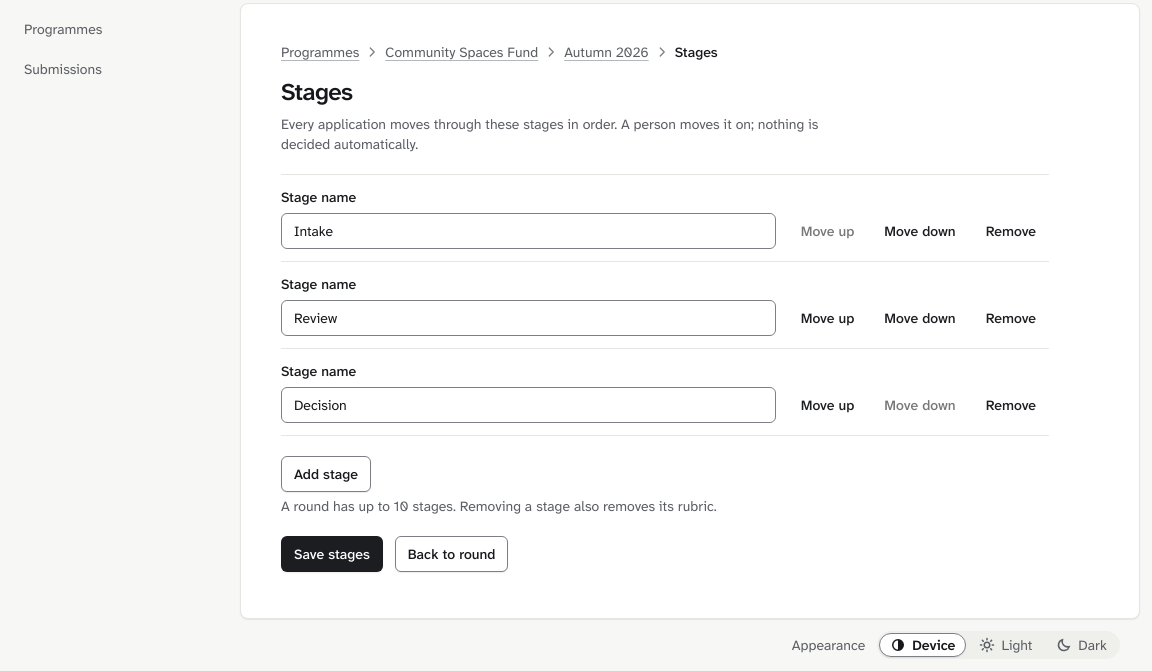
Test: the stages of a round › says which stage needs a name or a different name, beside it and in a summary
Expected: the 1st field showing "Intake" is shown, [281,213,776,249]
Clear the 3rd field showing "Decision" at [528, 405], box [281,387,776,423]
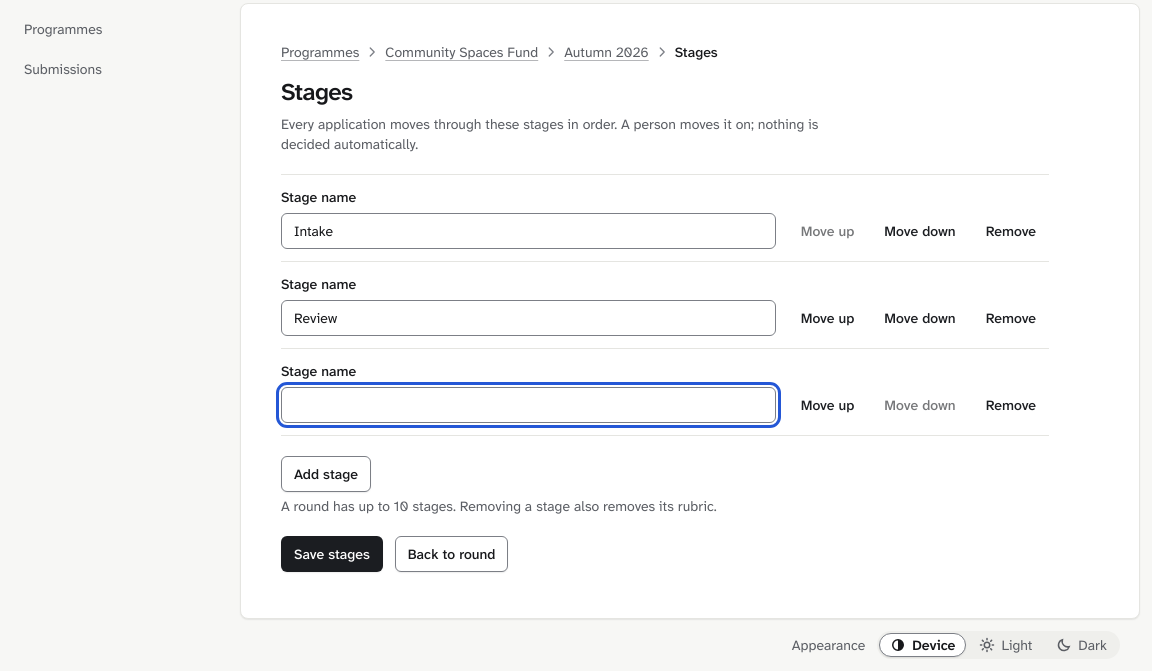
Click the button "Save stages" at [332, 554], box [281,536,383,572]
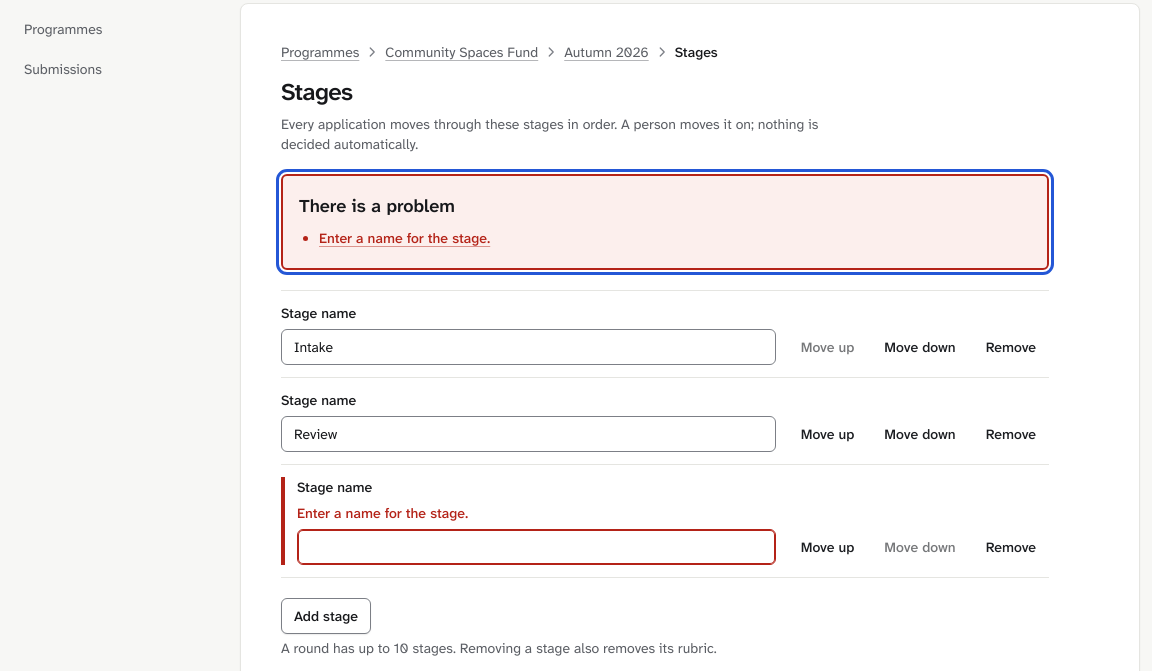
Expected: the link "Enter a name for the stage." is shown, [319,229,490,247]
Type "review" into the 3rd field labelled "Stage name" at [536, 547], box [297,529,776,565]
(page scrolled)
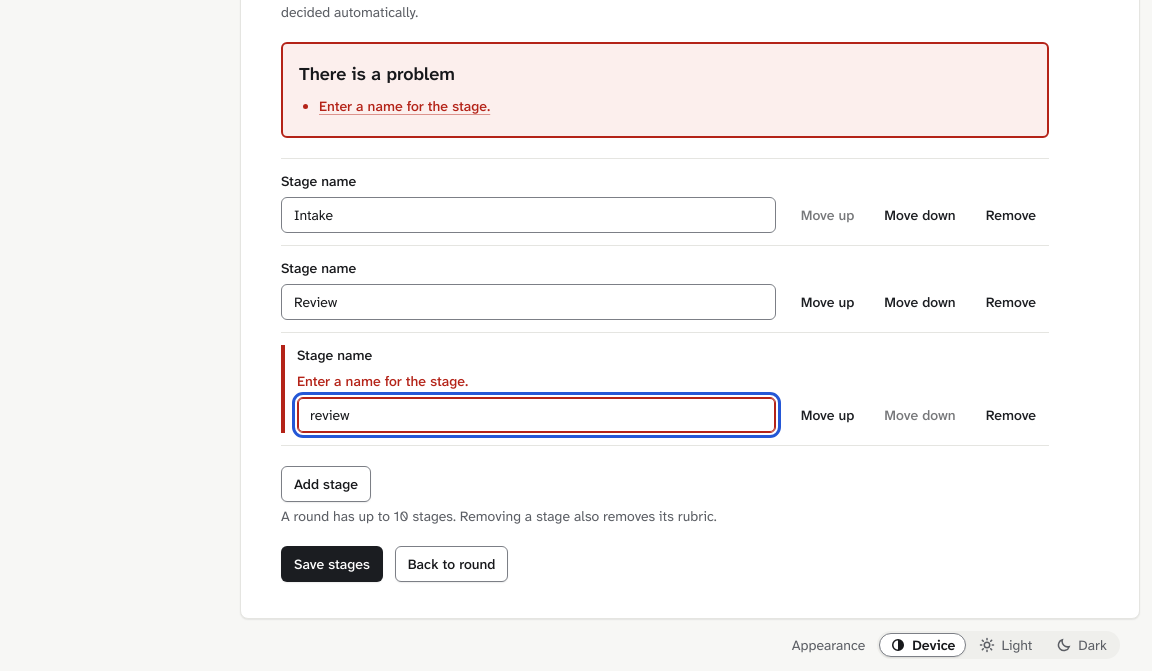
Click the button "Save stages" at [332, 564], box [281,546,383,582]
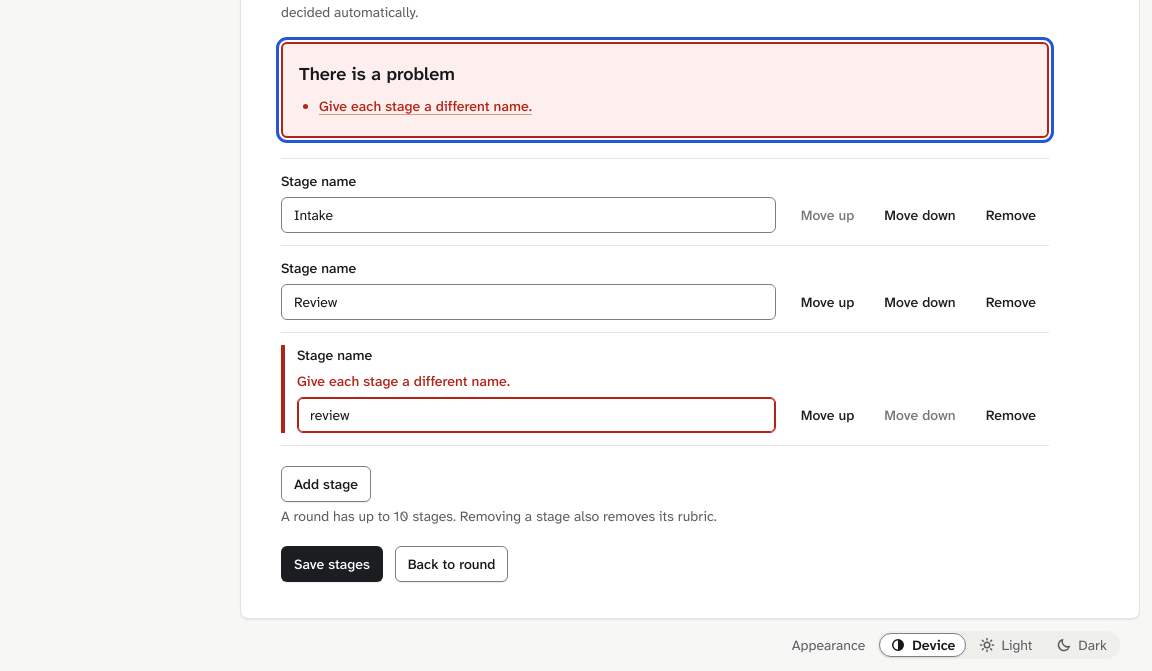
Expected: the link "Give each stage a different name." is shown, [319,97,532,115]
